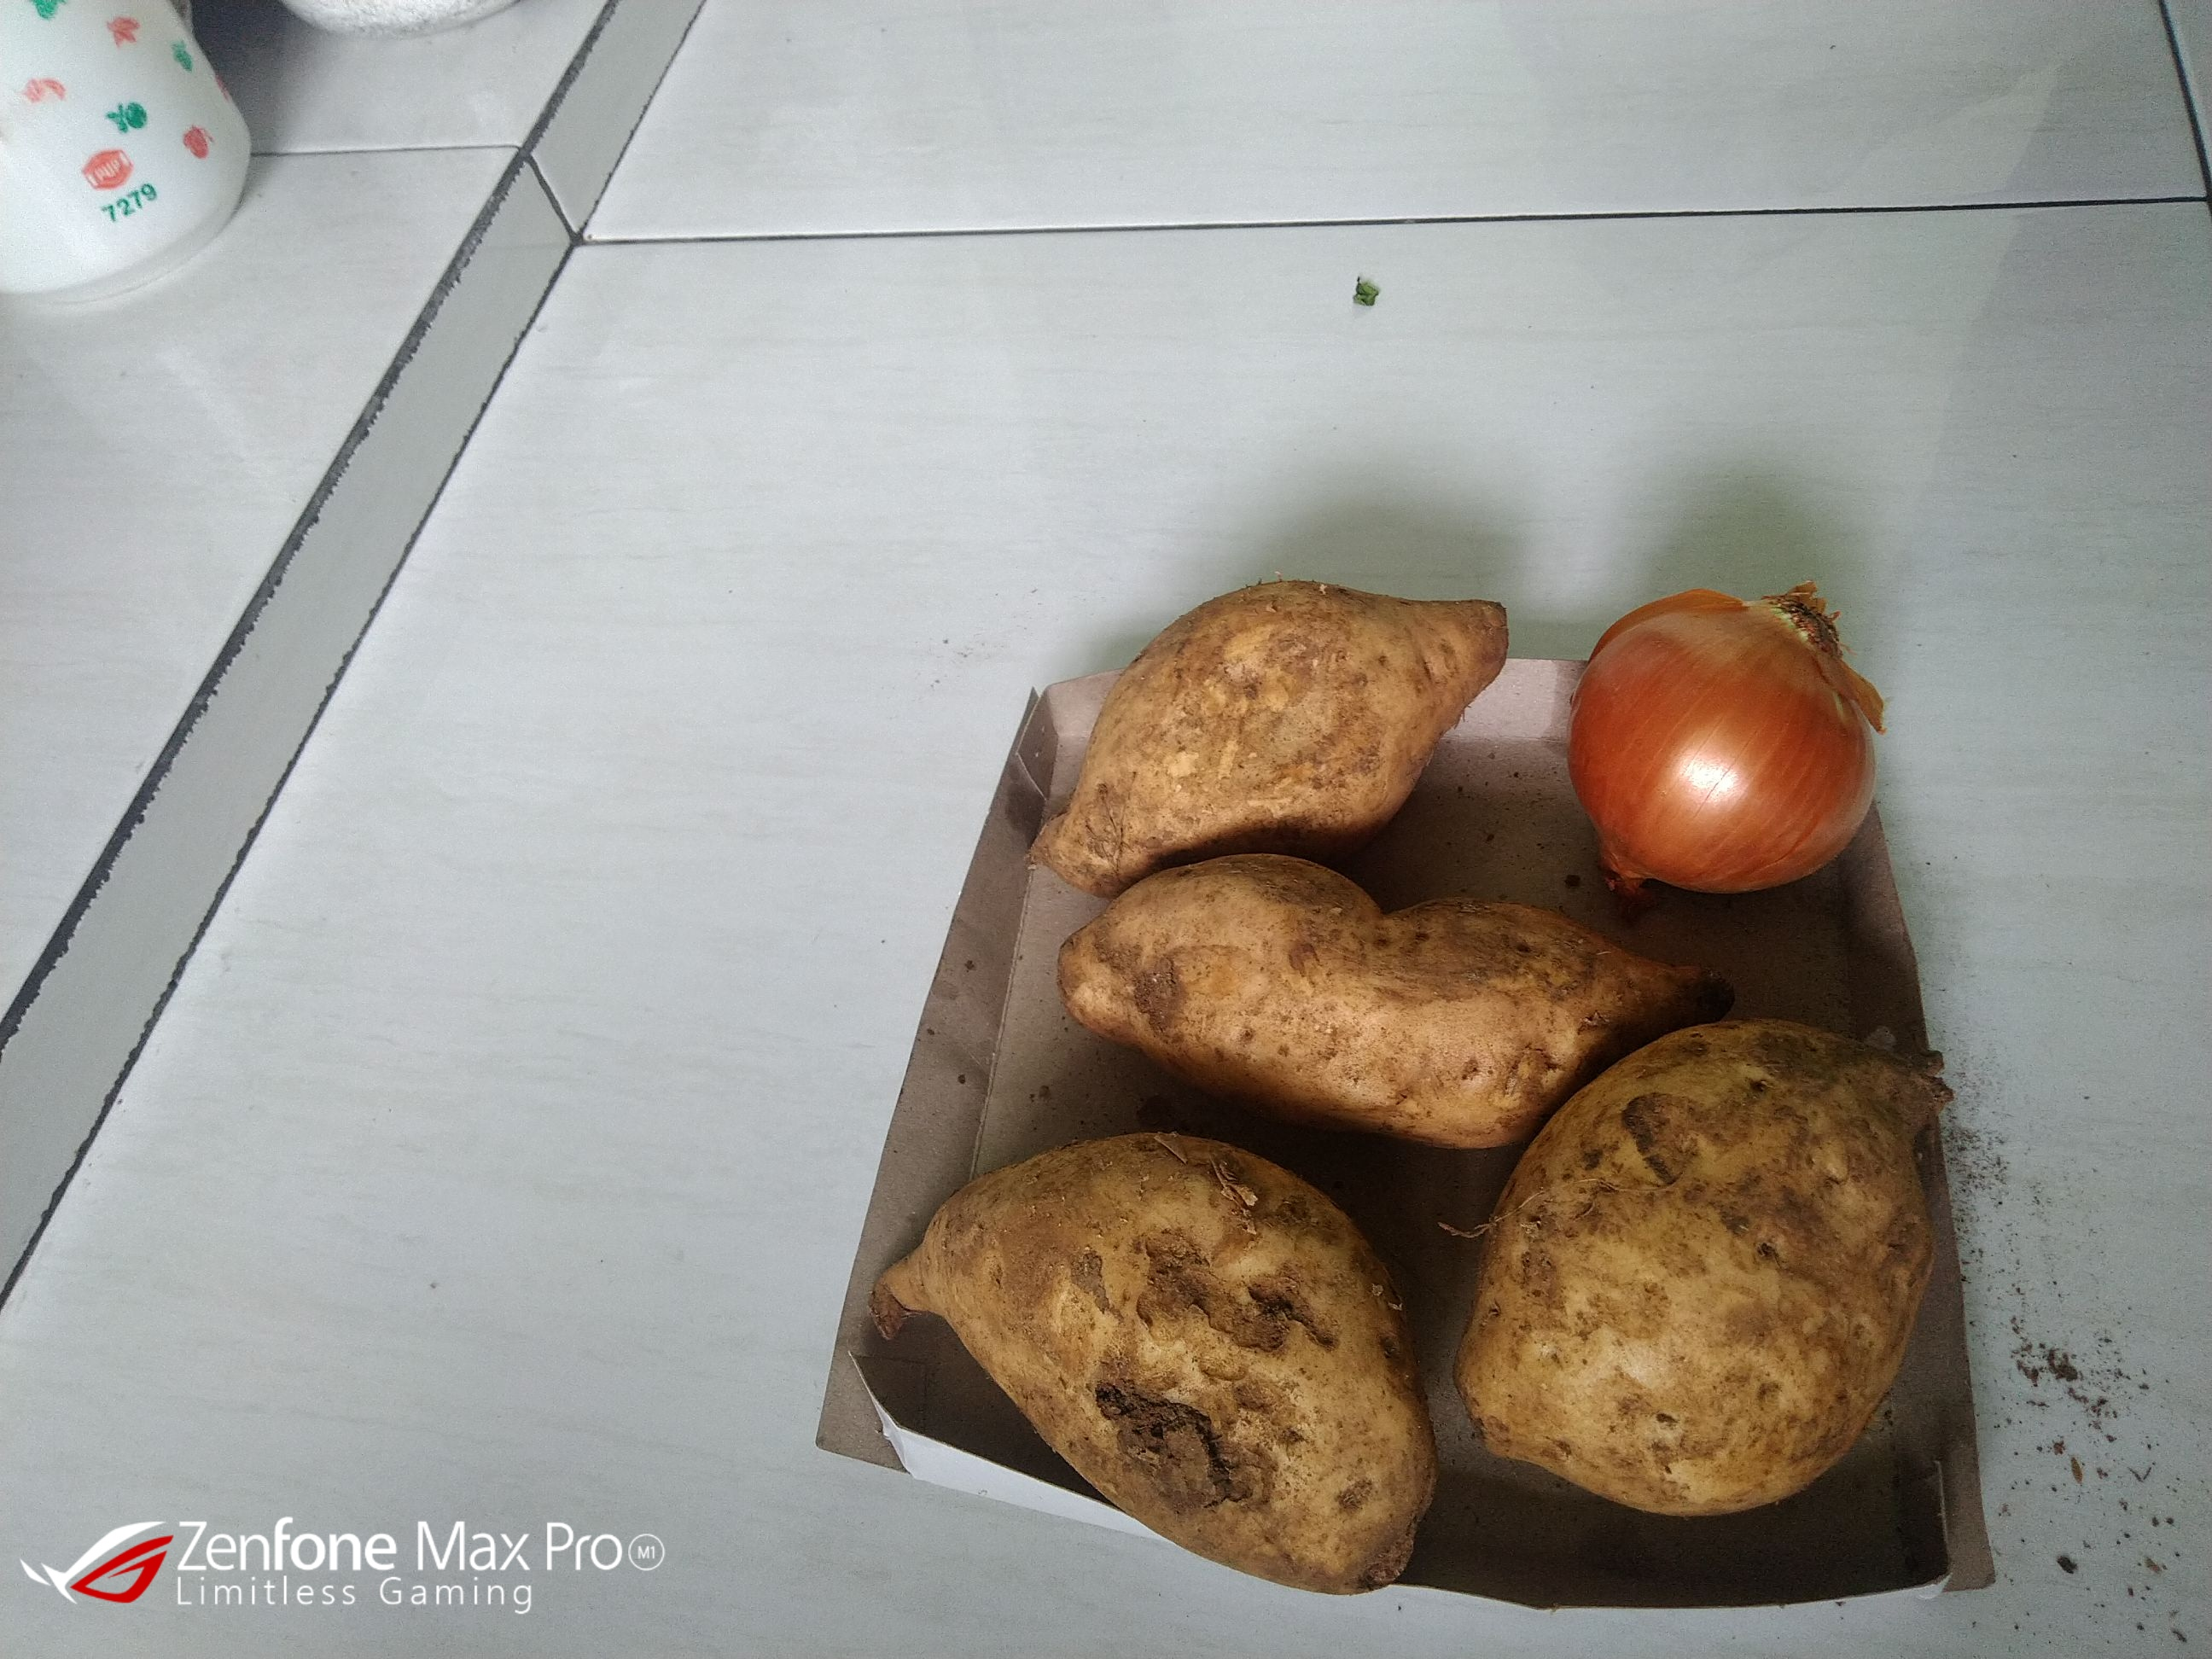ubi kuning: (862, 1117, 1449, 1600), (1460, 1030, 1973, 1527), (1033, 852, 1728, 1134), (1014, 558, 1524, 880)
